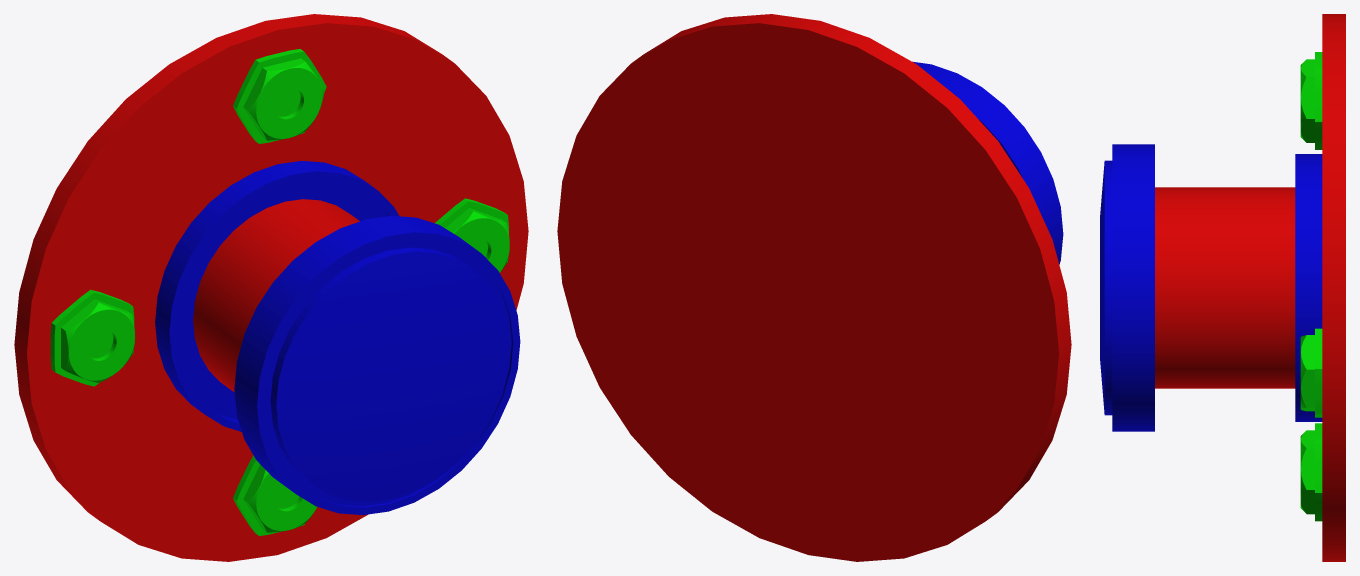
Rendered from Button.fbx.
3 renders of one model, left to right at view 1: azimuth 30°, elevation 25°; view 2: azimuth 150°, elevation 25°; view 3: azimuth 270°, elevation 25°, orthographic. The views are drawn at different scales.
Parts seen in each view (by area): view 1: Osnova, Push; view 2: Osnova, Push; view 3: Push, Osnova.
Part boxes in pixels (x1,y1,x2,y2): Osnova: [14, 14, 528, 561]; Push: [193, 199, 520, 515]; Osnova: [557, 14, 1071, 561]; Push: [912, 61, 1063, 264]; Push: [1100, 144, 1295, 431]; Osnova: [1295, 14, 1345, 561].
Bounding box in the file's own units: 200 × 200 × 89.69.
